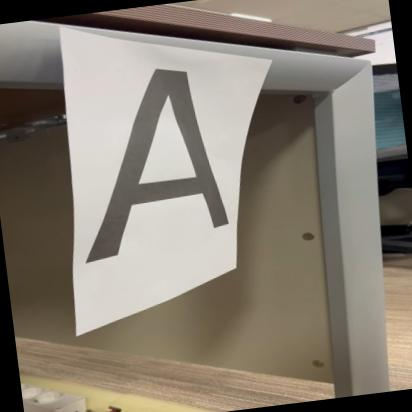seat: (56, 54, 246, 266)
